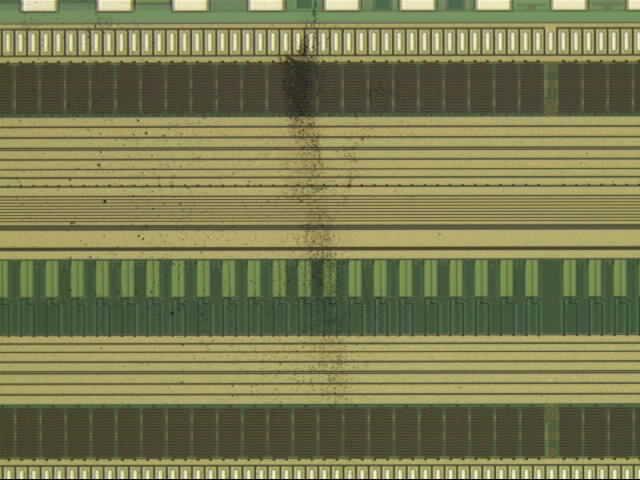PO CONTAMINATION: (12, 11, 409, 415)
